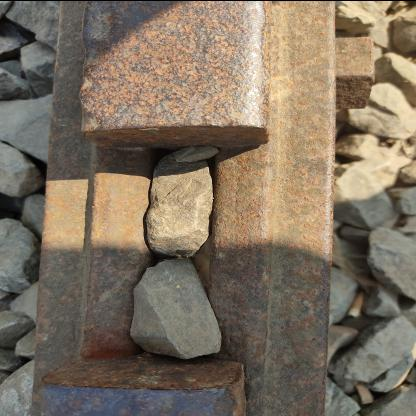Defective: (31, 0, 368, 410)
